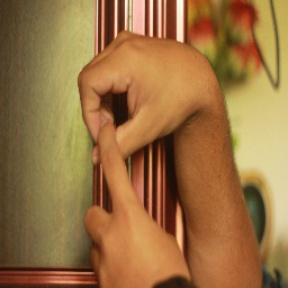Q: (77, 31, 207, 269)
